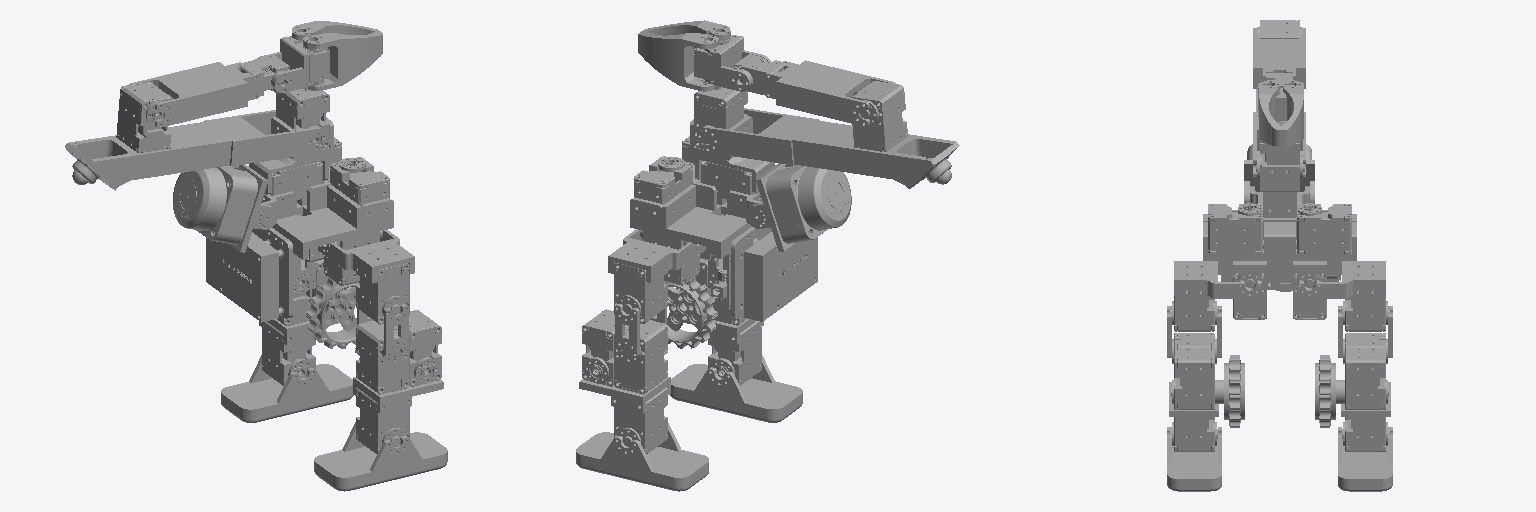
robot.urdf — shift_ostrich:
<?xml version='1.0' encoding='utf-8'?>
<robot name="shift_ostrich">
  <link name="base_link">
    <inertial>
      <origin xyz="-0.01971777753018439 5.072165780200158e-05 0.18837183550956269" rpy="0 0 0" />
      <mass value="0.40711169248879825" />
      <inertia ixx="0.000647" iyy="0.000905" izz="0.000998" ixy="2e-06" iyz="8e-06" ixz="-0.000147" />
    </inertial>
    <visual>
      <origin xyz="0 0 0" rpy="0 0 0" />
      <geometry>
        <mesh filename="package://shift_ostrich/meshes/base_link.stl" scale="0.001 0.001 0.001" />
      </geometry>
      <material name="silver" />
    </visual>
    <collision>
      <origin xyz="0 0 0" rpy="0 0 0" />
      <geometry>
        <mesh filename="package://shift_ostrich/meshes/collision/base_link.stl" scale="0.001 0.001 0.001" />
      </geometry>
    </collision>
  </link>
  <link name="R_Hip_roll2Hip_yaw_1_1">
    <inertial>
      <origin xyz="0.0006553372759970783 0.0002406816612214452 -0.032323125513636086" rpy="0 0 0" />
      <mass value="0.07567328185559695" />
      <inertia ixx="2.1e-05" iyy="2.4e-05" izz="1.3e-05" ixy="-0.0" iyz="0.0" ixz="0.0" />
    </inertial>
    <visual>
      <origin xyz="-0.019543 0.025545 -0.181706" rpy="0 0 0" />
      <geometry>
        <mesh filename="package://shift_ostrich/meshes/R_Hip_roll2Hip_yaw_1_1.stl" scale="0.001 0.001 0.001" />
      </geometry>
      <material name="silver" />
    </visual>
    <collision>
      <origin xyz="-0.019543 0.025545 -0.181706" rpy="0 0 0" />
      <geometry>
        <mesh filename="package://shift_ostrich/meshes/collision/R_Hip_roll2Hip_yaw_1_1.stl" scale="0.001 0.001 0.001" />
      </geometry>
    </collision>
  </link>
  <link name="R_Hippitch2Hiproll_1_1">
    <inertial>
      <origin xyz="-0.01901144799659828 -0.04628199371446903 -0.022680464711314435" rpy="0 0 0" />
      <mass value="0.07909501854951188" />
      <inertia ixx="2.8e-05" iyy="2.4e-05" izz="1.8e-05" ixy="-0.0" iyz="-2e-06" ixz="-0.0" />
    </inertial>
    <visual>
      <origin xyz="-0.038543 0.025295 -0.159206" rpy="0 0 0" />
      <geometry>
        <mesh filename="package://shift_ostrich/meshes/R_Hippitch2Hiproll_1_1.stl" scale="0.001 0.001 0.001" />
      </geometry>
      <material name="silver" />
    </visual>
    <collision>
      <origin xyz="-0.038543 0.025295 -0.159206" rpy="0 0 0" />
      <geometry>
        <mesh filename="package://shift_ostrich/meshes/collision/R_Hippitch2Hiproll_1_1.stl" scale="0.001 0.001 0.001" />
      </geometry>
    </collision>
  </link>
  <link name="R_Knee2Hippitch_1_1">
    <inertial>
      <origin xyz="7.999282648253614e-07 0.019000192626889817 -0.017749038465236275" rpy="0 0 0" />
      <mass value="0.0030017631114552298" />
      <inertia ixx="1.6666666666666665e-06" iyy="3.3333433333333338e-07" izz="1.3333333333333334e-06" ixy="0" iyz="0" ixz="0" />
    </inertial>
    <visual>
      <origin xyz="-0.019543 0.091295 -0.122456" rpy="0 0 0" />
      <geometry>
        <mesh filename="package://shift_ostrich/meshes/R_Knee2Hippitch_1_1.stl" scale="0.001 0.001 0.001" />
      </geometry>
      <material name="silver" />
    </visual>
    <collision>
      <origin xyz="-0.019543 0.091295 -0.122456" rpy="0 0 0" />
      <geometry>
        <mesh filename="package://shift_ostrich/meshes/collision/R_Knee2Hippitch_1_1.stl" scale="0.001 0.001 0.001" />
      </geometry>
    </collision>
  </link>
  <link name="R_Anklepitch2Knee_1_1">
    <inertial>
      <origin xyz="0.009631901648161138 0.018776151203484845 -0.030025522608921898" rpy="0 0 0" />
      <mass value="0.2212643682252885" />
      <inertia ixx="0.000193" iyy="0.000225" izz="7.7e-05" ixy="-2e-06" iyz="-2e-06" ixz="-3.5e-05" />
    </inertial>
    <visual>
      <origin xyz="-0.019543 0.091295 -0.086956" rpy="0 0 0" />
      <geometry>
        <mesh filename="package://shift_ostrich/meshes/R_Anklepitch2Knee_1_1.stl" scale="0.001 0.001 0.001" />
      </geometry>
      <material name="silver" />
    </visual>
    <collision>
      <origin xyz="-0.019543 0.091295 -0.086956" rpy="0 0 0" />
      <geometry>
        <mesh filename="package://shift_ostrich/meshes/collision/R_Anklepitch2Knee_1_1.stl" scale="0.001 0.001 0.001" />
      </geometry>
    </collision>
  </link>
  <link name="R_foot_1_1">
    <inertial>
      <origin xyz="-0.0013341083336654881 0.01925019250970092 -0.02447434301705835" rpy="0 0 0" />
      <mass value="0.04036535015429528" />
      <inertia ixx="9e-06" iyy="3.1e-05" izz="3.8e-05" ixy="0.0" iyz="0.0" ixz="-0.0" />
    </inertial>
    <visual>
      <origin xyz="-0.019543 0.091295 -0.010456" rpy="0 0 0" />
      <geometry>
        <mesh filename="package://shift_ostrich/meshes/R_foot_1_1.stl" scale="0.001 0.001 0.001" />
      </geometry>
      <material name="silver" />
    </visual>
    <collision>
      <origin xyz="-0.019543 0.091295 -0.010456" rpy="0 0 0" />
      <geometry>
        <mesh filename="package://shift_ostrich/meshes/collision/R_foot_1_1.stl" scale="0.001 0.001 0.001" />
      </geometry>
    </collision>
  </link>
  <link name="R_wheel_1_1">
    <inertial>
      <origin xyz="2.5592485101977314e-07 0.01234137543608027 -1.2036075427990234e-07" rpy="0 0 0" />
      <mass value="0.015077155398913997" />
      <inertia ixx="4e-06" iyy="7e-06" izz="4e-06" ixy="-0.0" iyz="0.0" ixz="0.0" />
    </inertial>
    <visual>
      <origin xyz="-0.048043 0.053295 -0.062956" rpy="0 0 0" />
      <geometry>
        <mesh filename="package://shift_ostrich/meshes/R_wheel_1_1.stl" scale="0.001 0.001 0.001" />
      </geometry>
      <material name="silver" />
    </visual>
    <collision>
      <origin xyz="-0.048043 0.053295 -0.062956" rpy="0 0 0" />
      <geometry>
        <mesh filename="package://shift_ostrich/meshes/collision/R_wheel_1_1.stl" scale="0.001 0.001 0.001" />
      </geometry>
    </collision>
  </link>
  <link name="L_Hip_roll2Hip_yaw_1_1">
    <inertial>
      <origin xyz="0.0006553372887335811 -0.00024027523907365483 -0.032323125411622106" rpy="0 0 0" />
      <mass value="0.07567328190501145" />
      <inertia ixx="2.1e-05" iyy="2.4e-05" izz="1.3e-05" ixy="0.0" iyz="-0.0" ixz="0.0" />
    </inertial>
    <visual>
      <origin xyz="-0.019543 -0.024955 -0.181706" rpy="0 0 0" />
      <geometry>
        <mesh filename="package://shift_ostrich/meshes/L_Hip_roll2Hip_yaw_1_1.stl" scale="0.001 0.001 0.001" />
      </geometry>
      <material name="silver" />
    </visual>
    <collision>
      <origin xyz="-0.019543 -0.024955 -0.181706" rpy="0 0 0" />
      <geometry>
        <mesh filename="package://shift_ostrich/meshes/collision/L_Hip_roll2Hip_yaw_1_1.stl" scale="0.001 0.001 0.001" />
      </geometry>
    </collision>
  </link>
  <link name="L_Hippitch2Hiproll_1_1">
    <inertial>
      <origin xyz="-0.019011447996594957 0.04628240011771301 -0.022680464711310466" rpy="0 0 0" />
      <mass value="0.07909501854950102" />
      <inertia ixx="2.8e-05" iyy="2.4e-05" izz="1.8e-05" ixy="0.0" iyz="2e-06" ixz="-0.0" />
    </inertial>
    <visual>
      <origin xyz="-0.038543 -0.024705 -0.159206" rpy="0 0 0" />
      <geometry>
        <mesh filename="package://shift_ostrich/meshes/L_Hippitch2Hiproll_1_1.stl" scale="0.001 0.001 0.001" />
      </geometry>
      <material name="silver" />
    </visual>
    <collision>
      <origin xyz="-0.038543 -0.024705 -0.159206" rpy="0 0 0" />
      <geometry>
        <mesh filename="package://shift_ostrich/meshes/collision/L_Hippitch2Hiproll_1_1.stl" scale="0.001 0.001 0.001" />
      </geometry>
    </collision>
  </link>
  <link name="L_Knee2Hippitch_1_1">
    <inertial>
      <origin xyz="7.999282656094564e-07 -0.018999786222958864 -0.017749038465237704" rpy="0 0 0" />
      <mass value="0.0030017631114540853" />
      <inertia ixx="1.6666666666666665e-06" iyy="3.3333433333333338e-07" izz="1.3333333333333334e-06" ixy="0" iyz="0" ixz="0" />
    </inertial>
    <visual>
      <origin xyz="-0.019543 -0.090705 -0.122456" rpy="0 0 0" />
      <geometry>
        <mesh filename="package://shift_ostrich/meshes/L_Knee2Hippitch_1_1.stl" scale="0.001 0.001 0.001" />
      </geometry>
      <material name="silver" />
    </visual>
    <collision>
      <origin xyz="-0.019543 -0.090705 -0.122456" rpy="0 0 0" />
      <geometry>
        <mesh filename="package://shift_ostrich/meshes/collision/L_Knee2Hippitch_1_1.stl" scale="0.001 0.001 0.001" />
      </geometry>
    </collision>
  </link>
  <link name="L_Anklepitch2Knee_1_1">
    <inertial>
      <origin xyz="0.009631901648166623 -0.018775745733571908 -0.030025522608915077" rpy="0 0 0" />
      <mass value="0.2212643682252882" />
      <inertia ixx="0.000193" iyy="0.000225" izz="7.7e-05" ixy="2e-06" iyz="2e-06" ixz="-3.5e-05" />
    </inertial>
    <visual>
      <origin xyz="-0.019543 -0.090705 -0.086956" rpy="0 0 0" />
      <geometry>
        <mesh filename="package://shift_ostrich/meshes/L_Anklepitch2Knee_1_1.stl" scale="0.001 0.001 0.001" />
      </geometry>
      <material name="silver" />
    </visual>
    <collision>
      <origin xyz="-0.019543 -0.090705 -0.086956" rpy="0 0 0" />
      <geometry>
        <mesh filename="package://shift_ostrich/meshes/collision/L_Anklepitch2Knee_1_1.stl" scale="0.001 0.001 0.001" />
      </geometry>
    </collision>
  </link>
  <link name="L_foot_2_1">
    <inertial>
      <origin xyz="-0.0013341083336606933 -0.01924978610576228 -0.02447434301705457" rpy="0 0 0" />
      <mass value="0.040365350154312134" />
      <inertia ixx="9e-06" iyy="3.1e-05" izz="3.8e-05" ixy="-0.0" iyz="-0.0" ixz="-0.0" />
    </inertial>
    <visual>
      <origin xyz="-0.019543 -0.090705 -0.010456" rpy="0 0 0" />
      <geometry>
        <mesh filename="package://shift_ostrich/meshes/L_foot_2_1.stl" scale="0.001 0.001 0.001" />
      </geometry>
      <material name="silver" />
    </visual>
    <collision>
      <origin xyz="-0.019543 -0.090705 -0.010456" rpy="0 0 0" />
      <geometry>
        <mesh filename="package://shift_ostrich/meshes/collision/L_foot_2_1.stl" scale="0.001 0.001 0.001" />
      </geometry>
    </collision>
  </link>
  <link name="L_wheel_1_1">
    <inertial>
      <origin xyz="2.6625039189348554e-07 -0.012340967139246178 -1.102749614401155e-07" rpy="0 0 0" />
      <mass value="0.015077145878498907" />
      <inertia ixx="4e-06" iyy="7e-06" izz="4e-06" ixy="0.0" iyz="0.0" ixz="0.0" />
    </inertial>
    <visual>
      <origin xyz="-0.048043 -0.052705 -0.062956" rpy="0 0 0" />
      <geometry>
        <mesh filename="package://shift_ostrich/meshes/L_wheel_1_1.stl" scale="0.001 0.001 0.001" />
      </geometry>
      <material name="silver" />
    </visual>
    <collision>
      <origin xyz="-0.048043 -0.052705 -0.062956" rpy="0 0 0" />
      <geometry>
        <mesh filename="package://shift_ostrich/meshes/collision/L_wheel_1_1.stl" scale="0.001 0.001 0.001" />
      </geometry>
    </collision>
  </link>
  <link name="ARM__link1_1_1">
    <inertial>
      <origin xyz="0.00017540553876530147 0.000642150054389539 0.03045376338584374" rpy="0 0 0" />
      <mass value="0.07721813755926547" />
      <inertia ixx="2.3e-05" iyy="2.1e-05" izz="1.3e-05" ixy="0.0" iyz="-0.0" ixz="-0.0" />
    </inertial>
    <visual>
      <origin xyz="0.010157 0.000295 -0.223706" rpy="0 0 0" />
      <geometry>
        <mesh filename="package://shift_ostrich/meshes/ARM__link1_1_1.stl" scale="0.001 0.001 0.001" />
      </geometry>
      <material name="silver" />
    </visual>
    <collision>
      <origin xyz="0.010157 0.000295 -0.223706" rpy="0 0 0" />
      <geometry>
        <mesh filename="package://shift_ostrich/meshes/collision/ARM__link1_1_1.stl" scale="0.001 0.001 0.001" />
      </geometry>
    </collision>
  </link>
  <link name="ARM_link2_1_1">
    <inertial>
      <origin xyz="-0.12701105067206486 -0.01885577412538959 0.024315955382354565" rpy="0 0 0" />
      <mass value="0.15182961046580007" />
      <inertia ixx="7.8e-05" iyy="0.000294" izz="0.000255" ixy="1e-06" iyz="-1e-06" ixz="4.1e-05" />
    </inertial>
    <visual>
      <origin xyz="0.009957 -0.018705 -0.244206" rpy="0 0 0" />
      <geometry>
        <mesh filename="package://shift_ostrich/meshes/ARM_link2_1_1.stl" scale="0.001 0.001 0.001" />
      </geometry>
      <material name="silver" />
    </visual>
    <collision>
      <origin xyz="0.009957 -0.018705 -0.244206" rpy="0 0 0" />
      <geometry>
        <mesh filename="package://shift_ostrich/meshes/collision/ARM_link2_1_1.stl" scale="0.001 0.001 0.001" />
      </geometry>
    </collision>
  </link>
  <link name="ARM_link3_1_1">
    <inertial>
      <origin xyz="0.07443232065439132 -0.01959028323741193 5.217393815870608e-06" rpy="0 0 0" />
      <mass value="0.06515069566992972" />
      <inertia ixx="1e-05" iyy="6.9e-05" izz="7.5e-05" ixy="1e-06" iyz="-0.0" ixz="-0.0" />
    </inertial>
    <visual>
      <origin xyz="0.148945 -0.018505 -0.298024" rpy="0 0 0" />
      <geometry>
        <mesh filename="package://shift_ostrich/meshes/ARM_link3_1_1.stl" scale="0.001 0.001 0.001" />
      </geometry>
      <material name="silver" />
    </visual>
    <collision>
      <origin xyz="0.148945 -0.018505 -0.298024" rpy="0 0 0" />
      <geometry>
        <mesh filename="package://shift_ostrich/meshes/collision/ARM_link3_1_1.stl" scale="0.001 0.001 0.001" />
      </geometry>
    </collision>
  </link>
  <link name="ARM_link4_1_1">
    <inertial>
      <origin xyz="0.038752561152397044 -0.014717048209123609 0.004856992827470319" rpy="0 0 0" />
      <mass value="0.05532132186583316" />
      <inertia ixx="1.2e-05" iyy="2.5e-05" izz="2.7e-05" ixy="-1e-06" iyz="-0.0" ixz="-1e-06" />
    </inertial>
    <visual>
      <origin xyz="0.036945 -0.014005 -0.298024" rpy="0 0 0" />
      <geometry>
        <mesh filename="package://shift_ostrich/meshes/ARM_link4_1_1.stl" scale="0.001 0.001 0.001" />
      </geometry>
      <material name="silver" />
    </visual>
    <collision>
      <origin xyz="0.036945 -0.014005 -0.298024" rpy="0 0 0" />
      <geometry>
        <mesh filename="package://shift_ostrich/meshes/collision/ARM_link4_1_1.stl" scale="0.001 0.001 0.001" />
      </geometry>
    </collision>
  </link>
  <joint name="R_hip_yaw" type="continuous">
    <origin xyz="0.019543 -0.025545 0.181706" rpy="0 0 0" />
    <parent link="base_link" />
    <child link="R_Hip_roll2Hip_yaw_1_1" />
    <axis xyz="-0.0 -0.0 1.0" />
    <dynamics damping="0.05" friction="0.0" />
  </joint>
  <joint name="R_hip_roll" type="continuous">
    <origin xyz="0.019 0.00025 -0.0225" rpy="0 0 0" />
    <parent link="R_Hip_roll2Hip_yaw_1_1" />
    <child link="R_Hippitch2Hiproll_1_1" />
    <axis xyz="-1.0 0.0 -0.0" />
    <dynamics damping="0.05" friction="0.0" />
  </joint>
  <joint name="R_hip_pitch" type="continuous">
    <origin xyz="-0.019 -0.066 -0.03675" rpy="0 0 0" />
    <parent link="R_Hippitch2Hiproll_1_1" />
    <child link="R_Knee2Hippitch_1_1" />
    <axis xyz="0.0 1.0 0.0" />
    <dynamics damping="0.05" friction="0.0" />
  </joint>
  <joint name="R_knee_pitch" type="continuous">
    <origin xyz="0.0 0.0 -0.0355" rpy="0 0 0" />
    <parent link="R_Knee2Hippitch_1_1" />
    <child link="R_Anklepitch2Knee_1_1" />
    <axis xyz="0.0 1.0 0.0" />
    <dynamics damping="0.05" friction="0.0" />
  </joint>
  <joint name="R_ankle_pitch" type="continuous">
    <origin xyz="0.0 0.0 -0.0765" rpy="0 0 0" />
    <parent link="R_Anklepitch2Knee_1_1" />
    <child link="R_foot_1_1" />
    <axis xyz="0.0 1.0 0.0" />
    <dynamics damping="0.05" friction="0.0" />
  </joint>
  <joint name="R_wheel" type="continuous">
    <origin xyz="0.0285 0.038 -0.024" rpy="0 0 0" />
    <parent link="R_Anklepitch2Knee_1_1" />
    <child link="R_wheel_1_1" />
    <axis xyz="-0.0 -1.0 -0.0" />
    <dynamics damping="0.05" friction="0.0" />
  </joint>
  <joint name="L_hip_yaw" type="continuous">
    <origin xyz="0.019543 0.024955 0.181706" rpy="0 0 0" />
    <parent link="base_link" />
    <child link="L_Hip_roll2Hip_yaw_1_1" />
    <axis xyz="0.0 -0.0 1.0" />
    <dynamics damping="0.05" friction="0.0" />
  </joint>
  <joint name="L_hip_roll" type="continuous">
    <origin xyz="0.019 -0.00025 -0.0225" rpy="0 0 0" />
    <parent link="L_Hip_roll2Hip_yaw_1_1" />
    <child link="L_Hippitch2Hiproll_1_1" />
    <axis xyz="1.0 -0.0 0.0" />
    <dynamics damping="0.05" friction="0.0" />
  </joint>
  <joint name="L_hip_pitch" type="continuous">
    <origin xyz="-0.019 0.066 -0.03675" rpy="0 0 0" />
    <parent link="L_Hippitch2Hiproll_1_1" />
    <child link="L_Knee2Hippitch_1_1" />
    <axis xyz="0.0 1.0 0.0" />
    <dynamics damping="0.05" friction="0.0" />
  </joint>
  <joint name="L_knee_pitch" type="continuous">
    <origin xyz="0.0 0.0 -0.0355" rpy="0 0 0" />
    <parent link="L_Knee2Hippitch_1_1" />
    <child link="L_Anklepitch2Knee_1_1" />
    <axis xyz="-0.0 1.0 0.0" />
    <dynamics damping="0.05" friction="0.0" />
  </joint>
  <joint name="L_ankle_pitch" type="continuous">
    <origin xyz="0.0 0.0 -0.0765" rpy="0 0 0" />
    <parent link="L_Anklepitch2Knee_1_1" />
    <child link="L_foot_2_1" />
    <axis xyz="-0.0 1.0 0.0" />
    <dynamics damping="0.05" friction="0.0" />
  </joint>
  <joint name="L_wheel" type="continuous">
    <origin xyz="0.0285 -0.038 -0.024" rpy="0 0 0" />
    <parent link="L_Anklepitch2Knee_1_1" />
    <child link="L_wheel_1_1" />
    <axis xyz="0.0 -1.0 -0.0" />
    <dynamics damping="0.05" friction="0.0" />
  </joint>
  <joint name="Arm_yaw" type="continuous">
    <origin xyz="-0.010157 -0.000295 0.223706" rpy="0 0 0" />
    <parent link="base_link" />
    <child link="ARM__link1_1_1" />
    <axis xyz="0.0 -0.0 1.0" />
    <dynamics damping="0.05" friction="0.0" />
  </joint>
  <joint name="Arm_shoulder" type="continuous">
    <origin xyz="0.0002 0.019 0.0205" rpy="0 0 0" />
    <parent link="ARM__link1_1_1" />
    <child link="ARM_link2_1_1" />
    <axis xyz="0.0 1.0 0.0" />
    <dynamics damping="0.05" friction="0.0" />
  </joint>
  <joint name="Arm_elbow" type="continuous">
    <origin xyz="-0.138988 -0.0002 0.053818" rpy="0 0 0" />
    <parent link="ARM_link2_1_1" />
    <child link="ARM_link3_1_1" />
    <axis xyz="0.0 1.0 0.0" />
    <dynamics damping="0.05" friction="0.0" />
  </joint>
  <joint name="Arm_waist" type="continuous">
    <origin xyz="0.112 -0.0045 0.0" rpy="0 0 0" />
    <parent link="ARM_link3_1_1" />
    <child link="ARM_link4_1_1" />
    <axis xyz="-0.0 -1.0 -0.0" />
    <dynamics damping="0.05" friction="0.0" />
  </joint>
  <material name="silver">
    <color rgba="0.700 0.700 0.700 1.000" />
  </material>
  <gazebo>
    <plugin filename="gz-sim-joint-state-publisher-system" name="gz::sim::systems::JointStatePublisher">
      <topic>/model/shift_ostrich/joint_state</topic>
    </plugin>
  </gazebo>
</robot>

--- Render facts (derived) ---
3 views of the same robot in one strip: view 1: azimuth 30°, elevation 25°; view 2: azimuth 150°, elevation 25°; view 3: azimuth 270°, elevation 25° (orthographic).
Model shift_ostrich with 17 links and 16 joints (16 continuous), rooted at base_link, posed all joints at 0.
Visible links, largest first — view 1: base_link, ARM_link2_1_1, R_Anklepitch2Knee_1_1, ARM_link4_1_1, ARM_link3_1_1, R_foot_1_1, L_foot_2_1, R_Hippitch2Hiproll_1_1, L_Anklepitch2Knee_1_1, ARM__link1_1_1, L_wheel_1_1, R_Knee2Hippitch_1_1 (+1 smaller); view 2: base_link, ARM_link2_1_1, L_Anklepitch2Knee_1_1, ARM_link4_1_1, ARM_link3_1_1, L_foot_2_1, R_foot_1_1, L_Hippitch2Hiproll_1_1, R_Anklepitch2Knee_1_1, ARM__link1_1_1, R_wheel_1_1, L_Knee2Hippitch_1_1 (+1 smaller); view 3: base_link, R_Anklepitch2Knee_1_1, L_Anklepitch2Knee_1_1, R_Hippitch2Hiproll_1_1, L_Hippitch2Hiproll_1_1, ARM_link4_1_1, R_foot_1_1, L_foot_2_1, ARM_link3_1_1, ARM__link1_1_1, R_Hip_roll2Hip_yaw_1_1, L_Hip_roll2Hip_yaw_1_1 (+3 smaller).
Boxes of the visible links, box(x1,y1,x2,y2) form: base_link: box(173, 137, 393, 322); ARM_link2_1_1: box(65, 82, 321, 190); R_Anklepitch2Knee_1_1: box(353, 310, 443, 453); ARM_link4_1_1: box(255, 21, 382, 92); ARM_link3_1_1: box(129, 55, 289, 127); R_foot_1_1: box(314, 422, 447, 491); L_foot_2_1: box(221, 355, 353, 422); R_Hippitch2Hiproll_1_1: box(318, 230, 414, 324); L_Anklepitch2Knee_1_1: box(259, 259, 347, 385); ARM__link1_1_1: box(271, 89, 333, 160); L_wheel_1_1: box(306, 277, 368, 348); R_Knee2Hippitch_1_1: box(357, 304, 408, 357); base_link: box(630, 136, 851, 321); ARM_link2_1_1: box(702, 81, 959, 188); L_Anklepitch2Knee_1_1: box(579, 309, 670, 454); ARM_link4_1_1: box(638, 20, 770, 91); ARM_link3_1_1: box(734, 54, 895, 126); L_foot_2_1: box(576, 423, 708, 491); R_foot_1_1: box(670, 355, 802, 422); L_Hippitch2Hiproll_1_1: box(608, 229, 705, 323); R_Anklepitch2Knee_1_1: box(676, 258, 763, 385); ARM__link1_1_1: box(690, 87, 752, 160); R_wheel_1_1: box(656, 277, 717, 348); L_Knee2Hippitch_1_1: box(615, 304, 666, 357); base_link: box(1203, 144, 1356, 291); R_Anklepitch2Knee_1_1: box(1169, 333, 1218, 451); L_Anklepitch2Knee_1_1: box(1341, 333, 1390, 451); R_Hippitch2Hiproll_1_1: box(1170, 261, 1261, 331); L_Hippitch2Hiproll_1_1: box(1298, 261, 1389, 331); ARM_link4_1_1: box(1258, 80, 1303, 146); R_foot_1_1: box(1167, 427, 1221, 491); L_foot_2_1: box(1338, 427, 1392, 491); ARM_link3_1_1: box(1253, 28, 1305, 88); ARM__link1_1_1: box(1256, 140, 1304, 191); R_Hip_roll2Hip_yaw_1_1: box(1233, 261, 1266, 319); L_Hip_roll2Hip_yaw_1_1: box(1293, 261, 1326, 319).
Bounding box of the posed robot: 0.2923 × 0.19 × 0.3454 m (x, y, z).
17 mesh visuals loaded from 17 distinct referenced files (17 binary STL).
